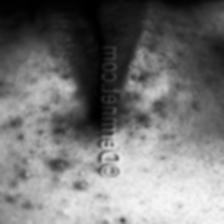Non-Cancerous Skin Condition: (0, 91, 88, 176)
